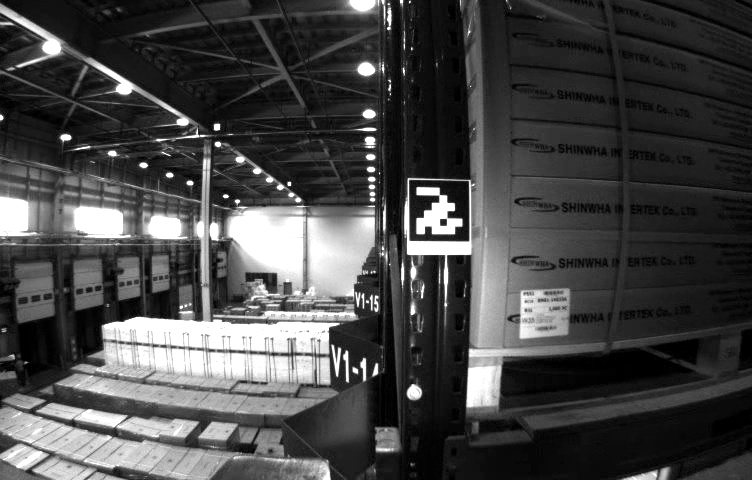True Barcode: (519, 287, 570, 338)
